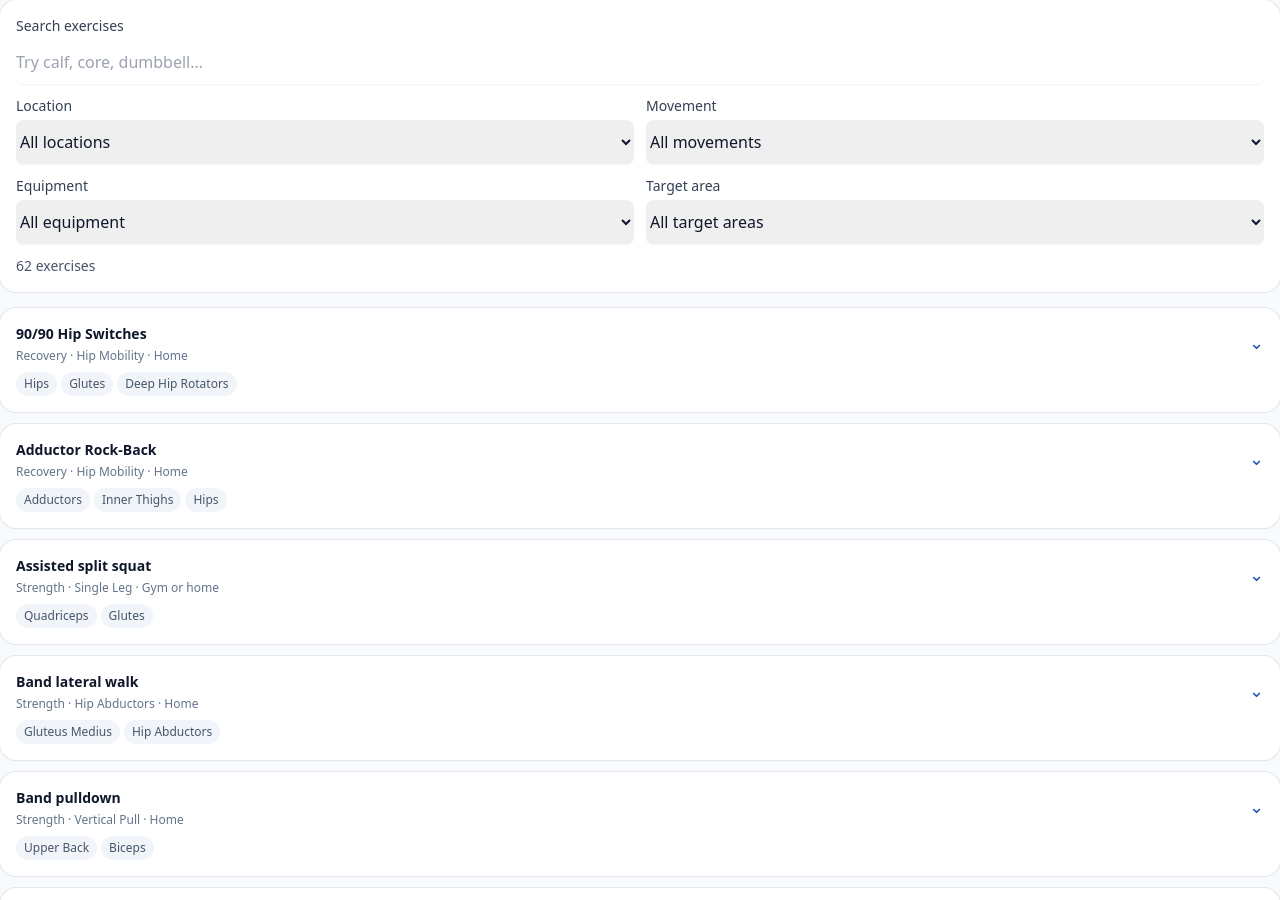
it: ExerciseLibraryBrowser › searches the catalogue and clears all filters
Step 1. Type "Wall-supported tibialis raise" into the search field labelled "Search exercises" → (640, 62), box x1=16 y1=40 x2=1264 y2=84
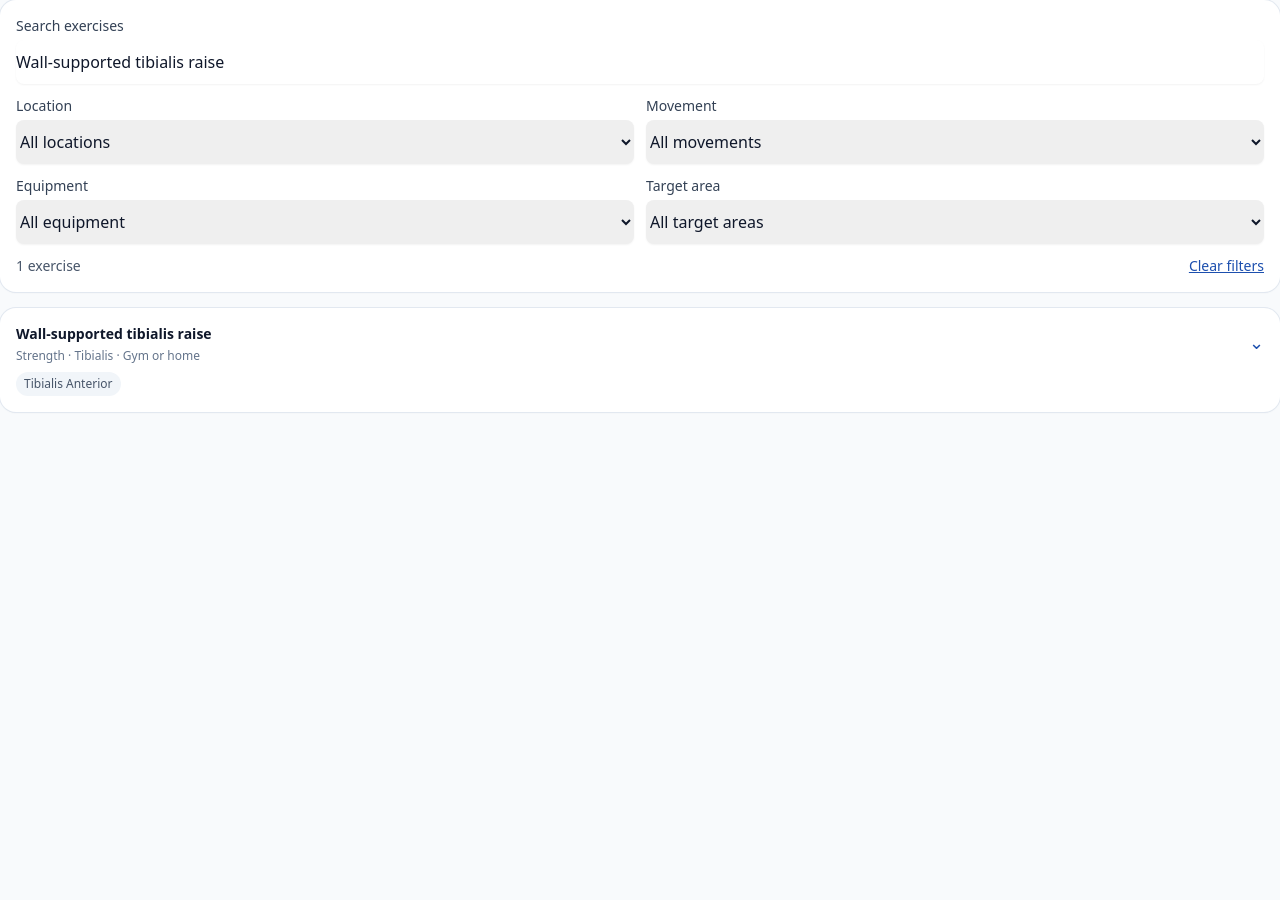
Expected: the heading "Wall-supported tibialis raise" is shown, x1=16 y1=324 x2=212 y2=344
Result: the text "1 exercise" is shown at x1=16 y1=256 x2=81 y2=276
Step 2. Click the button "Clear filters" → (1226, 266), box x1=1189 y1=256 x2=1264 y2=276
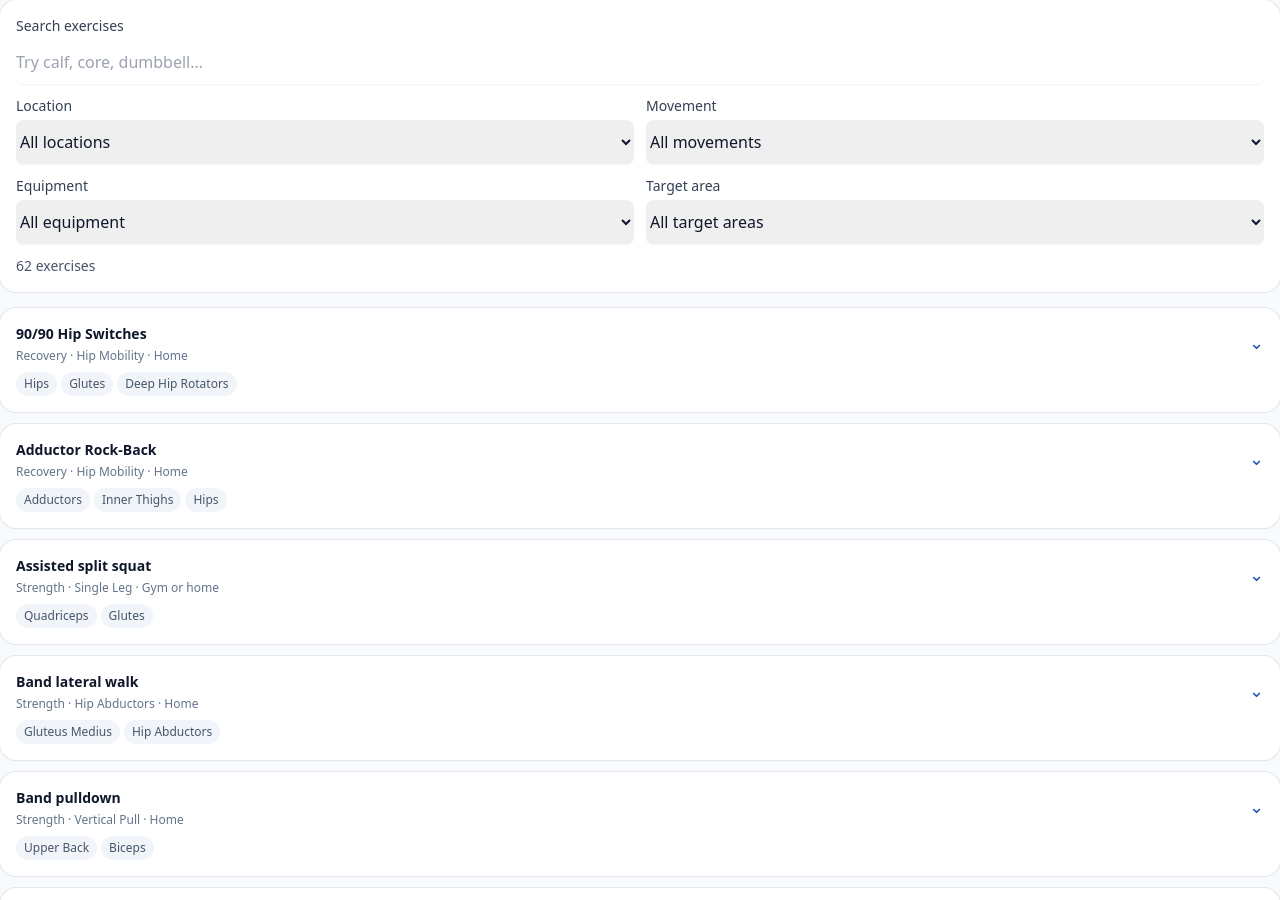
Result: the search field labelled "Search exercises" is empty at x1=16 y1=40 x2=1264 y2=84
